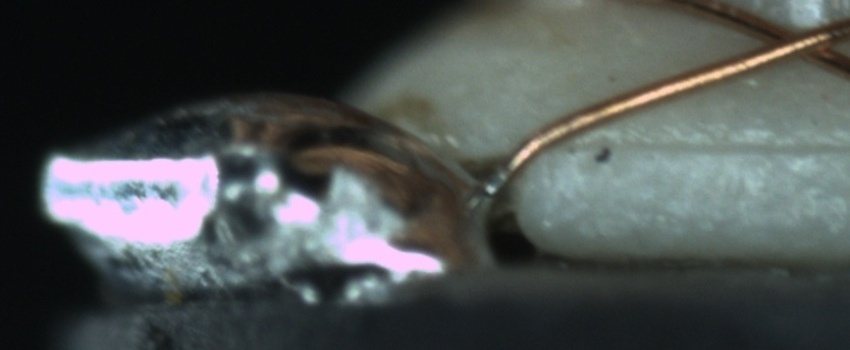CL: (741, 12, 846, 71)
DL: (566, 113, 849, 179)
TS: (484, 160, 514, 195)
